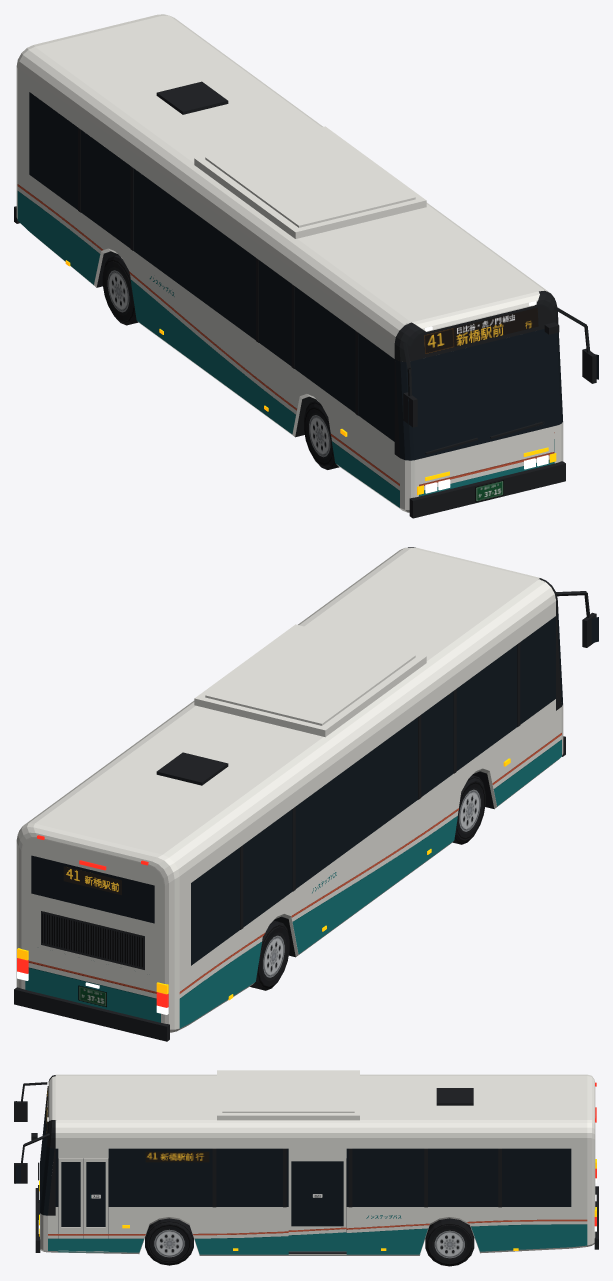
The model's file is bus.glb.
The picture shows the model from 3 angles, top to bottom: view 1: azimuth 30°, elevation 25°; view 2: azimuth 150°, elevation 25°; view 3: azimuth 270°, elevation 25°; orthographic projection. The views are drawn at different scales.
Visible parts, largest first — view 1: Body, WheelRR, WheelFR; view 2: Body, WheelRR, WheelFR; view 3: Body, DoorMiddle, DoorFrontA, DoorFrontB, WheelRL, WheelFL.
Part boxes in pixels (box(x1,y1,x2,y2)): Body: box(14, 14, 598, 518); WheelRR: box(102, 255, 138, 325); WheelFR: box(304, 400, 339, 469); Body: box(14, 547, 598, 1041); WheelRR: box(250, 920, 289, 990); WheelFR: box(452, 775, 485, 844); Body: box(14, 1070, 598, 1255); DoorMiddle: box(288, 1158, 346, 1251); DoorFrontA: box(58, 1158, 83, 1252); DoorFrontB: box(83, 1158, 108, 1252); WheelRL: box(425, 1218, 474, 1266); WheelFL: box(145, 1218, 193, 1265).
Bounding box in the file's own units: 2.94 × 3.1 × 11.06.
Materials: 14 (4 with a texture image).
